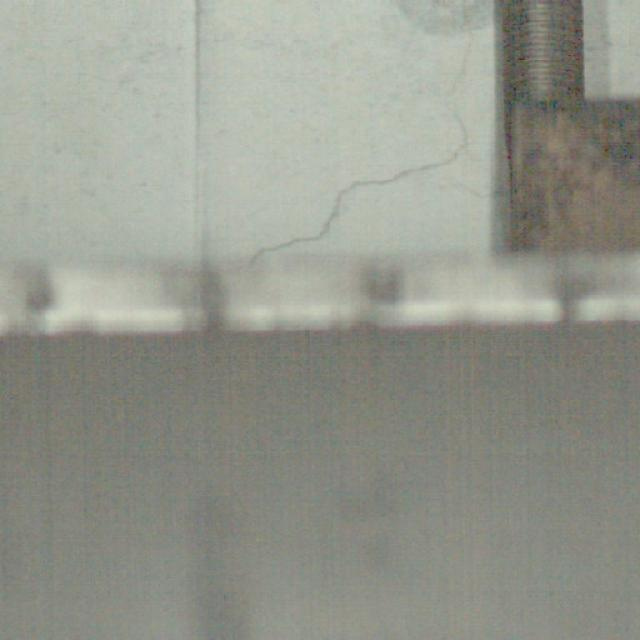Network: (226, 3, 501, 261)
